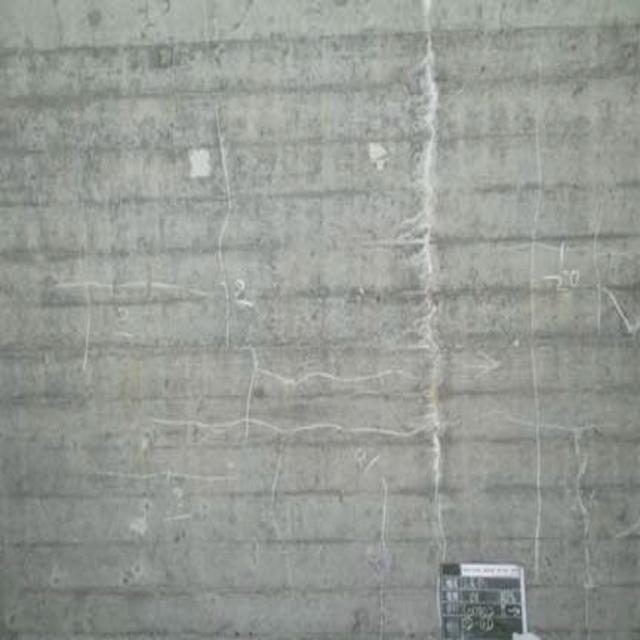freelime: (409, 20, 474, 546)
